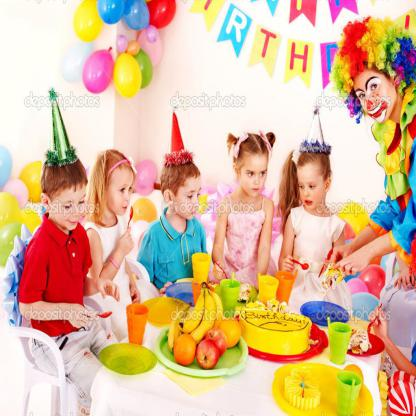face: (355, 73, 397, 122), (56, 187, 85, 233), (241, 155, 269, 198), (111, 165, 133, 218), (300, 167, 324, 213), (177, 175, 200, 219)
